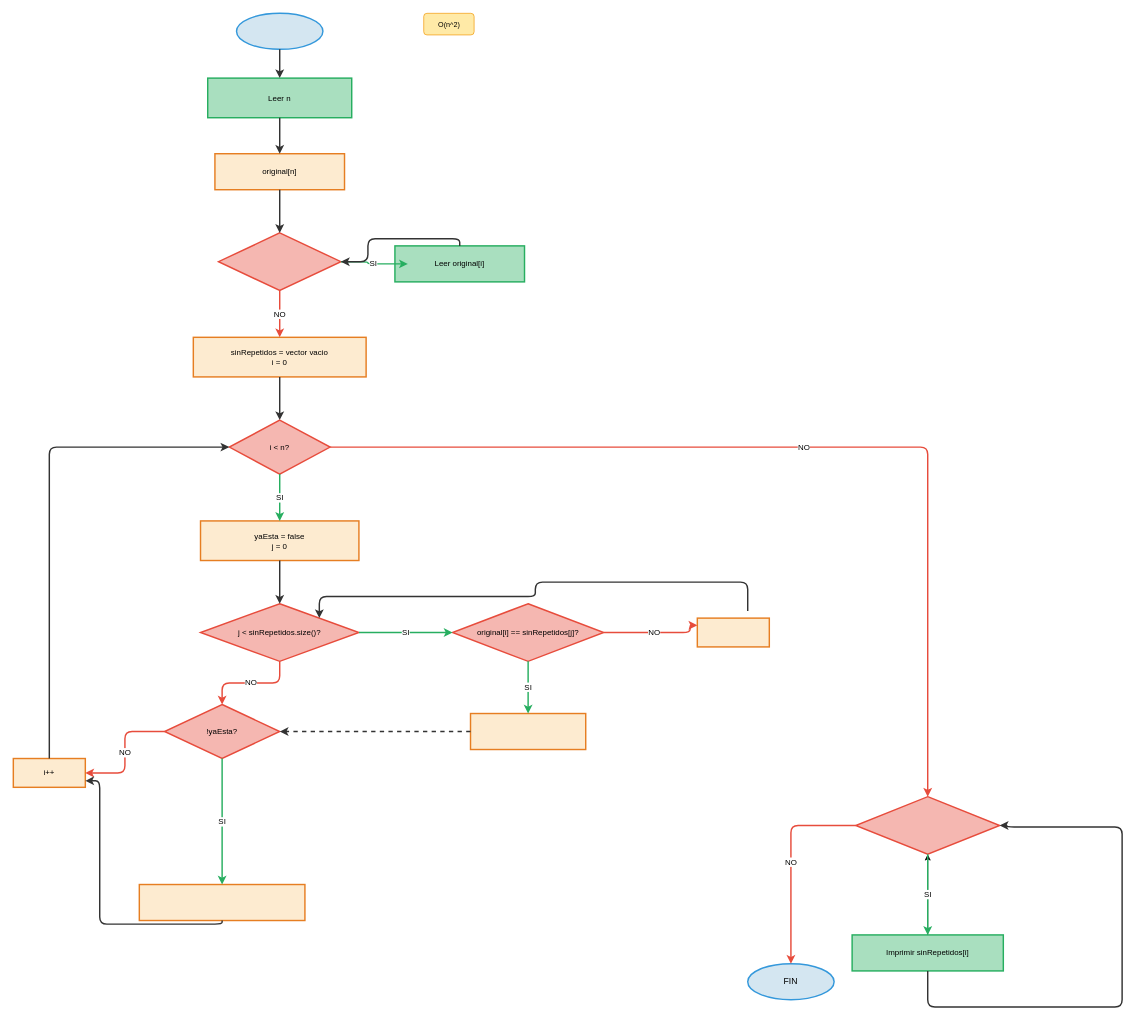
Some shapes in this 1140 by 1025 pixel diagram are drawn without their labels. The centre of each missing label's shape, as x and y in pixels:
i < n? (leer X): (x=279, y=261)
i < sinRepetidos.size()?: (x=927, y=825)
INICIO: (x=279, y=31)
j++: (x=733, y=632)
sinRepetidos.push_back(original[i]): (x=221, y=902)
yaEsta = true break: (x=527, y=731)
